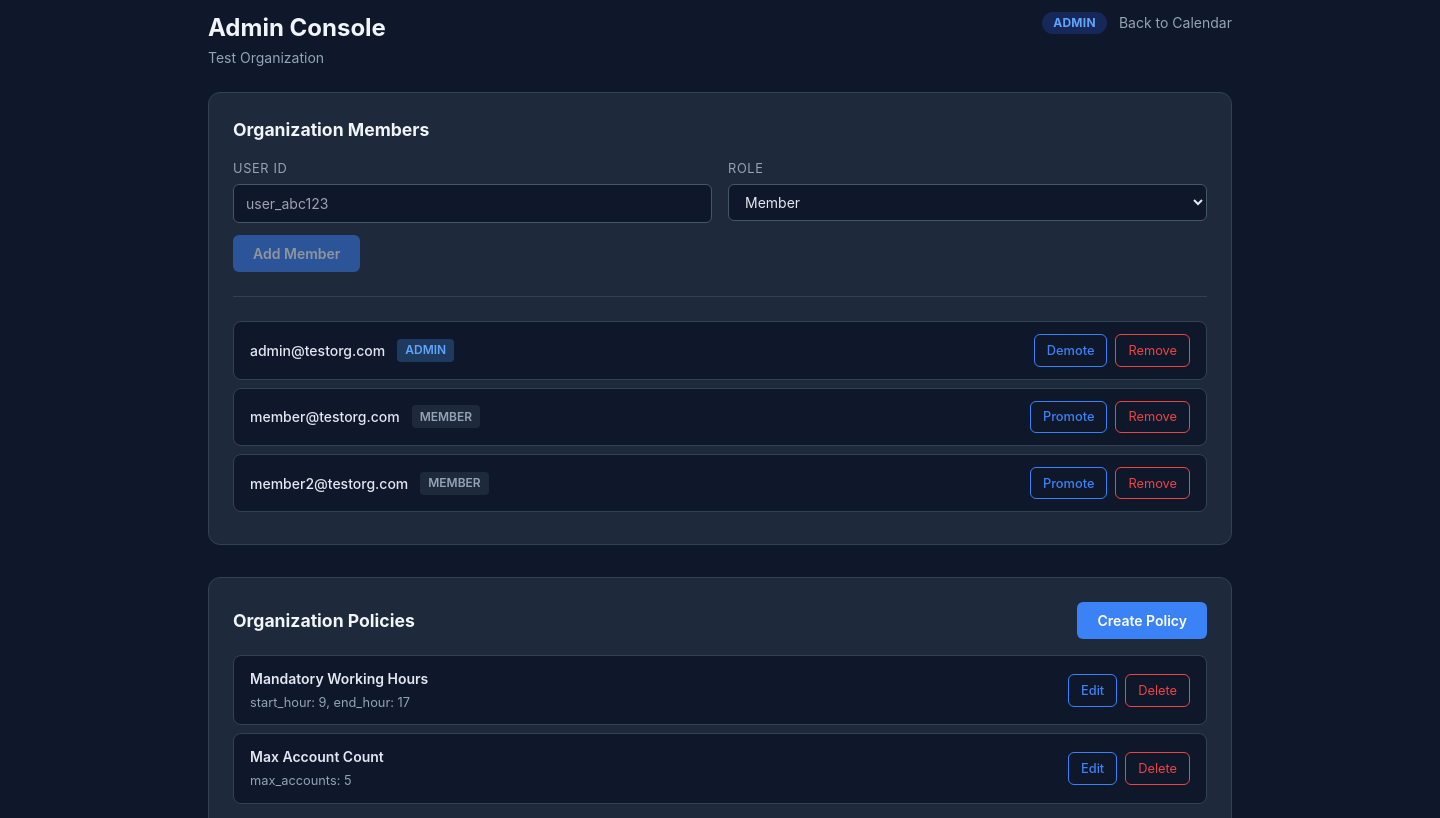
AC2: Admin policy management › admin can open edit form for existing policy
The image size is (1440, 818).
Click the button with test id "edit-policy-btn-pol_1".
click(1093, 690)  # box [1068, 674, 1117, 707]
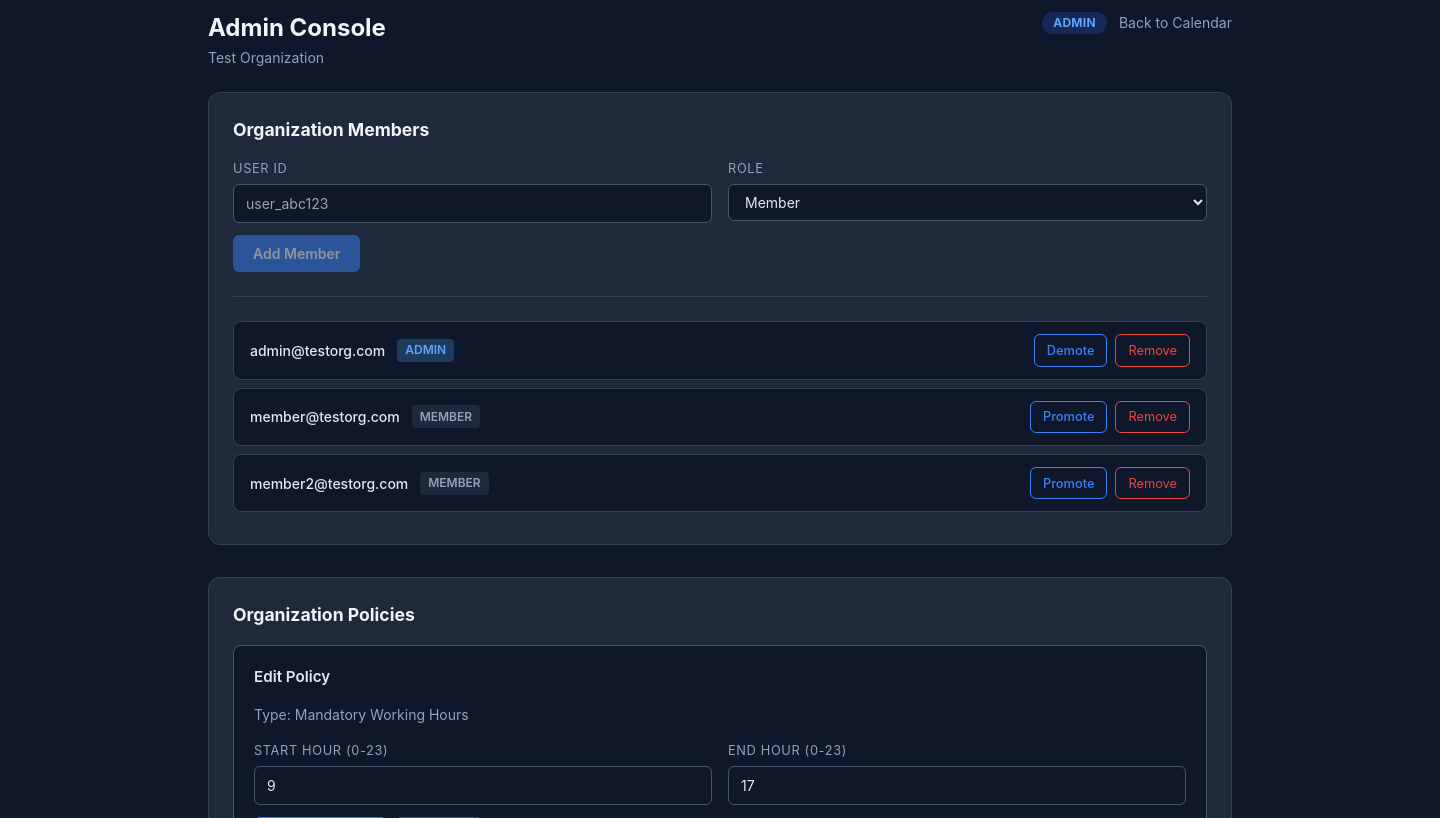
expect the number field with test id "config-start-hour" holds "9": met, box [254, 766, 712, 805]
expect the number field with test id "config-end-hour" holds "17": met, box [728, 766, 1186, 805]
